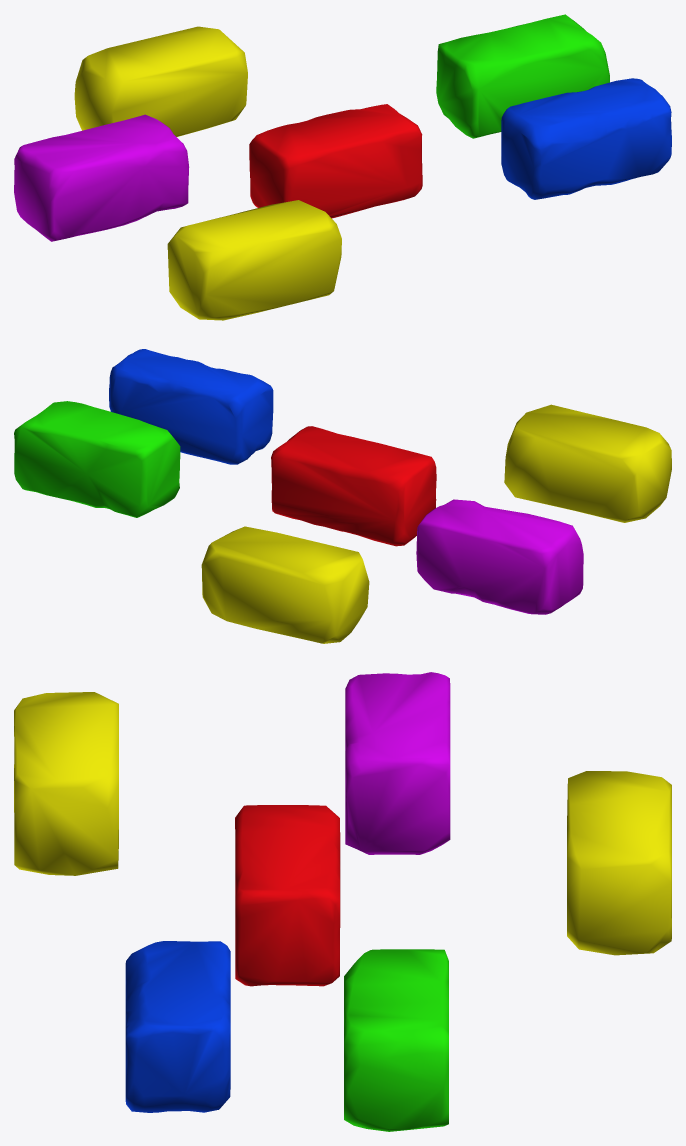
Rendered from sharp bricks pattern2.fbx.
3 renders of one model, top to bottom at view 1: azimuth 30°, elevation 25°; view 2: azimuth 150°, elevation 25°; view 3: azimuth 270°, elevation 25°, orthographic. The views are drawn at different scales.
Parts seen in each view (by area): view 1: brick 1.003; view 2: brick 1.003; view 3: brick 1.003.
Boxes of the visible parts, x1,y1,x2,y2 form: brick 1.003: (14, 14, 671, 320); brick 1.003: (14, 349, 671, 643); brick 1.003: (14, 672, 671, 1131).
Bounding box in the file's own units: 159 × 20.34 × 119.
